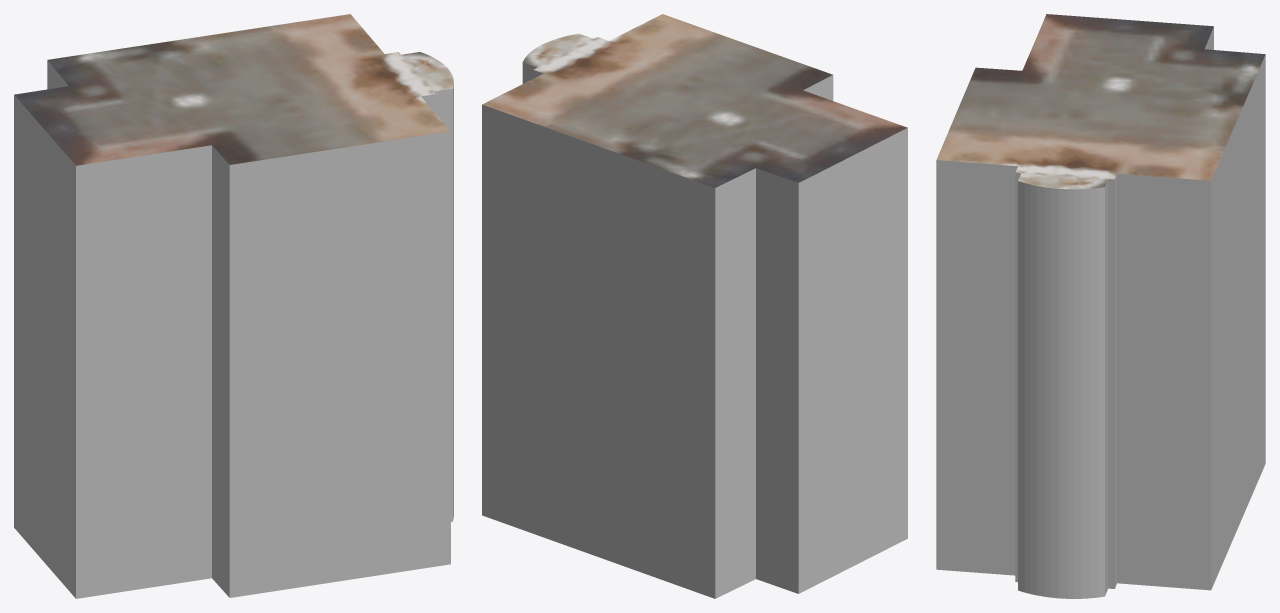
The model's file is DEBW_0010007TxaH.gltf.
The picture shows the model from 3 angles, left to right: view 1: azimuth 30°, elevation 25°; view 2: azimuth 150°, elevation 25°; view 3: azimuth 270°, elevation 25°; orthographic projection. The views are drawn at different scales.
Parts seen in each view (by area): view 1: Z_UP; view 2: Z_UP; view 3: Z_UP.
Part boxes in pixels (box(x1,y1,x2,y2)): Z_UP: box(14, 14, 453, 598); Z_UP: box(482, 14, 907, 598); Z_UP: box(936, 14, 1265, 598).
Bounding box in the file's own units: 16.33 × 17.78 × 12.95.
2 materials, 1 textured.
